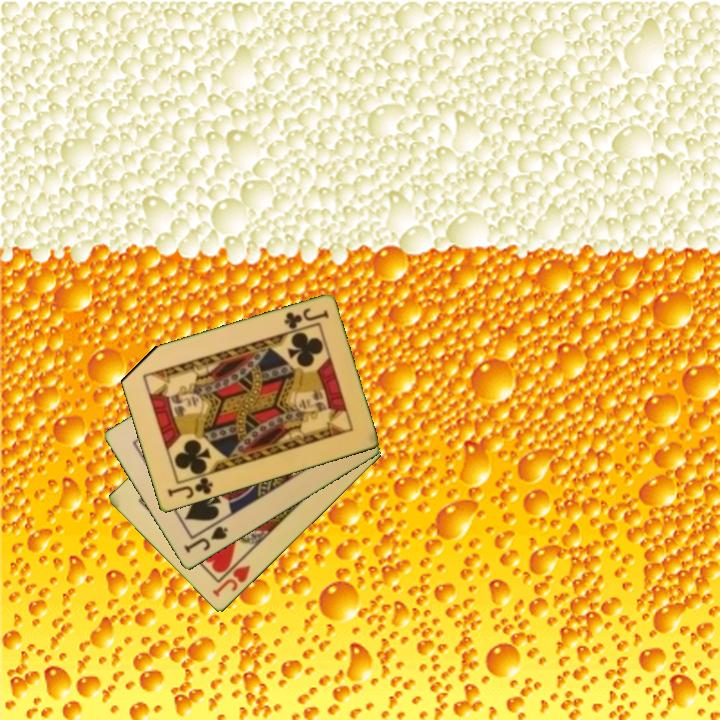Jc: (164, 474, 216, 502), (280, 305, 331, 332)
Jh: (208, 562, 253, 600)
Js: (180, 523, 231, 556)
